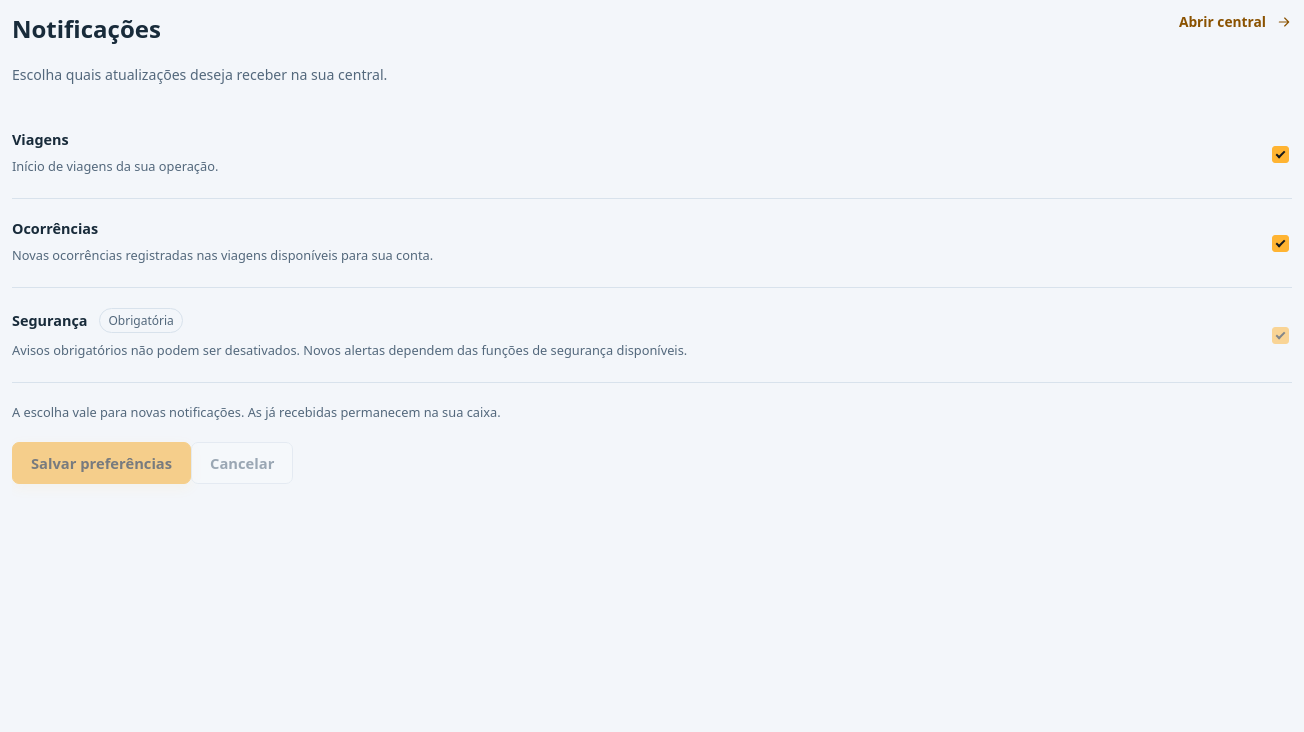
salva alterações e confirma somente após a API
The image size is (1304, 732).
Click the checkbox labelled "Viagens" at (1280, 154), box [1272,146,1289,162]
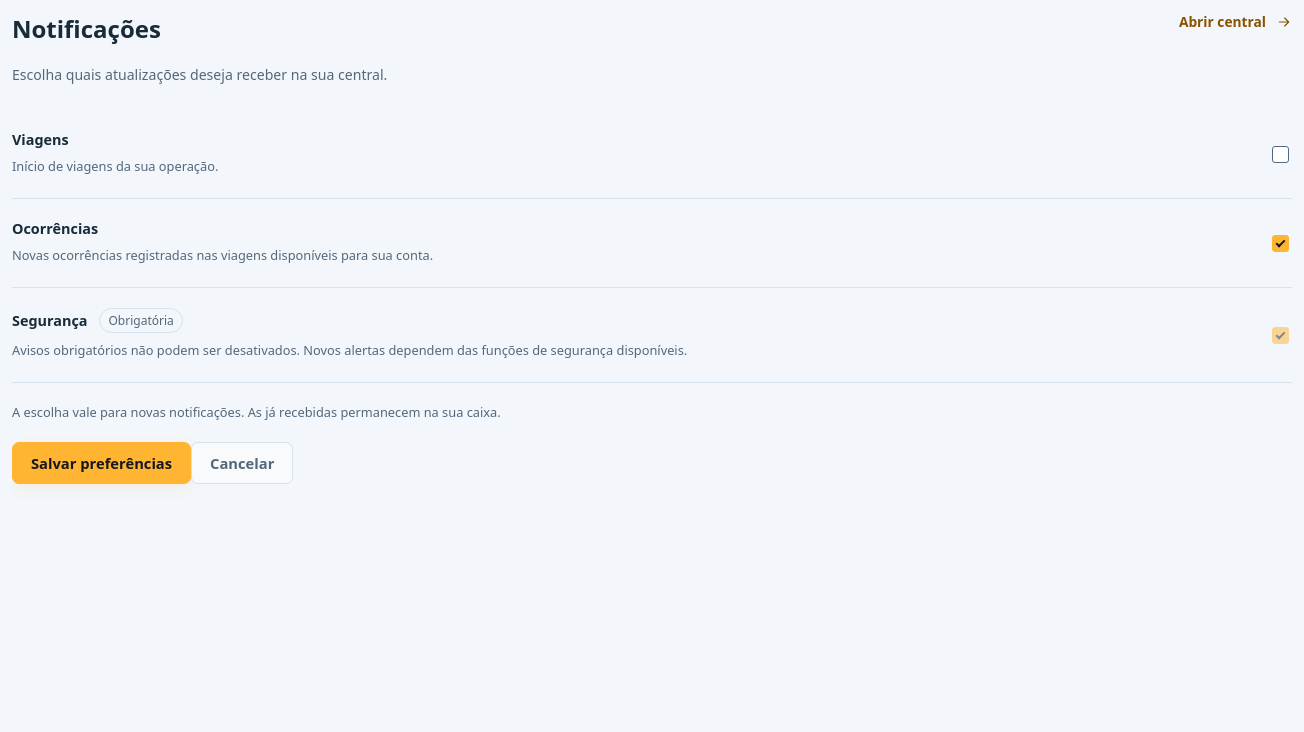
Click the button "Salvar preferências" at (102, 463), box [12,442,191,484]
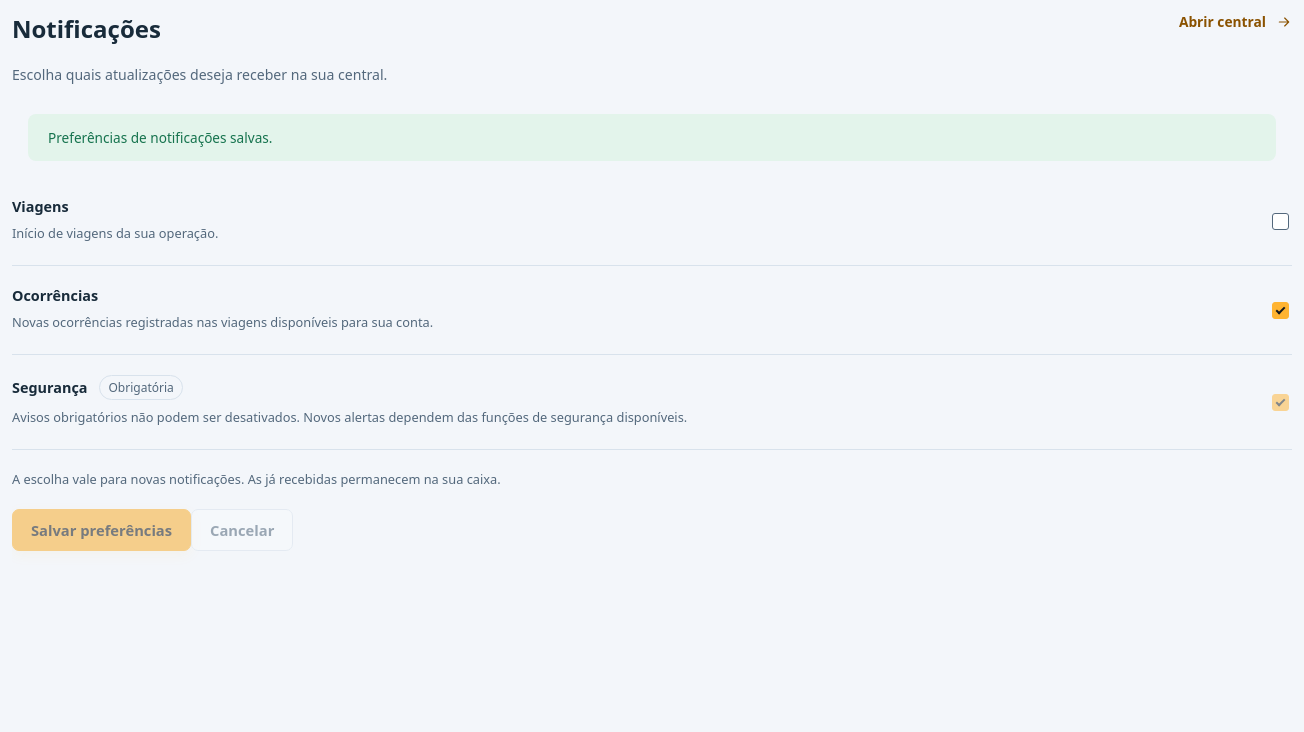
Check: the text "Preferências de notificações salvas." is shown, box [28,114,1276,161]
Check: the button "Salvar preferências" is disabled, box [12,509,191,551]
